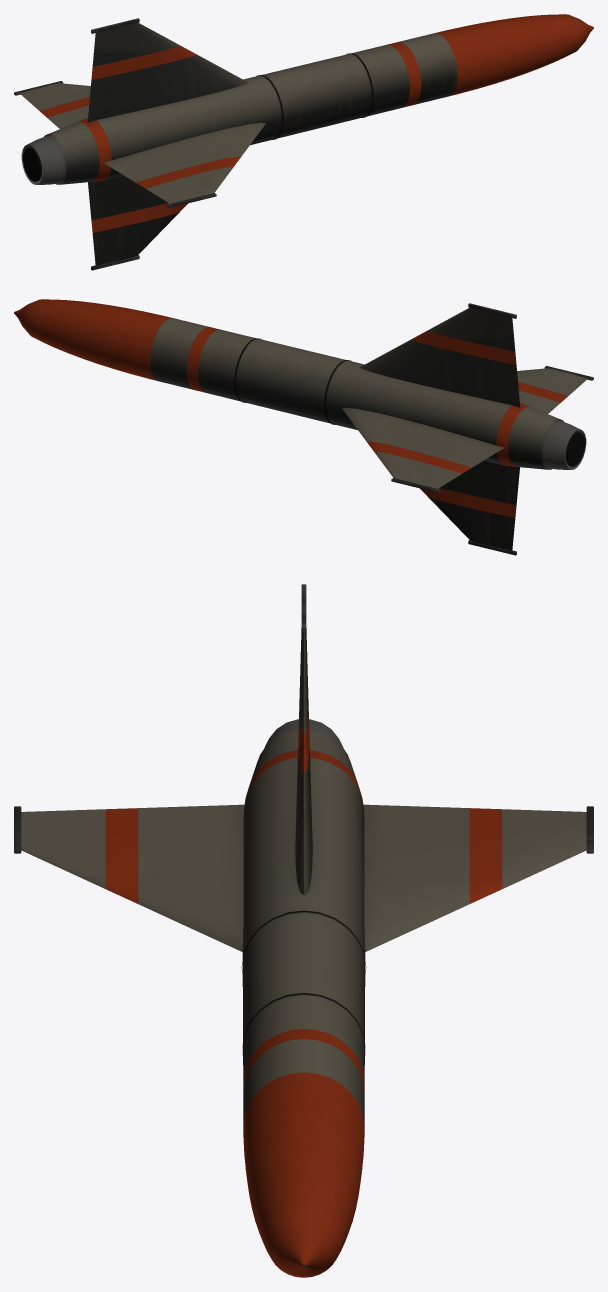
Rendered from fh_battle_e_kamikaze.glb.
3 renders of one model, top to bottom at view 1: azimuth 30°, elevation 25°; view 2: azimuth 150°, elevation 25°; view 3: azimuth 270°, elevation 25°, orthographic. The views are drawn at different scales.
Visible parts, largest first — view 1: kamikaze; view 2: kamikaze; view 3: kamikaze.
Boxes of the visible parts, <box> form: kamikaze: <box>14,14,593,270</box>; kamikaze: <box>14,299,593,555</box>; kamikaze: <box>14,584,593,1277</box>.
Bounding box in the file's own units: 0.9985 × 0.408 × 0.478.
2 materials, 2 textured.
